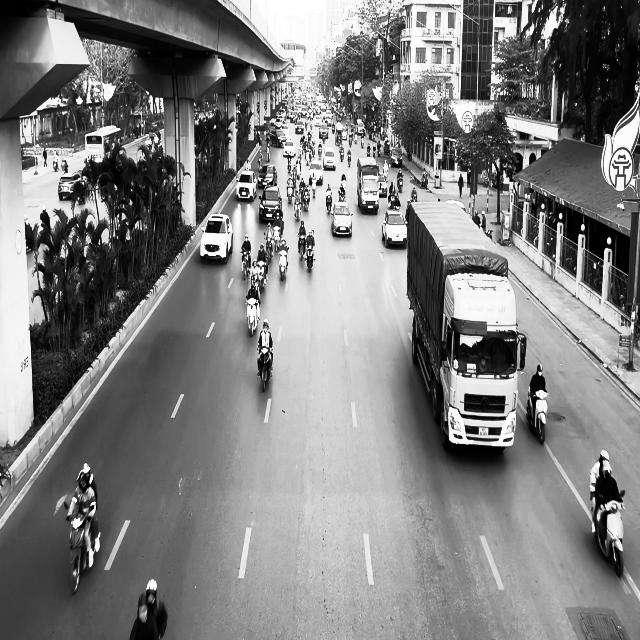bus: (85, 124, 122, 168)
car: (200, 212, 233, 262), (382, 209, 408, 248), (58, 172, 88, 204), (259, 185, 282, 223), (331, 201, 354, 236), (236, 171, 257, 201), (258, 164, 277, 189), (308, 160, 324, 184), (323, 147, 336, 170), (378, 172, 388, 197), (283, 138, 296, 157)
motorbike: (66, 502, 98, 594), (593, 489, 626, 577), (526, 388, 549, 444), (257, 344, 273, 392), (246, 295, 260, 336), (278, 247, 290, 280), (306, 244, 316, 272)
truck: (406, 200, 527, 452)
